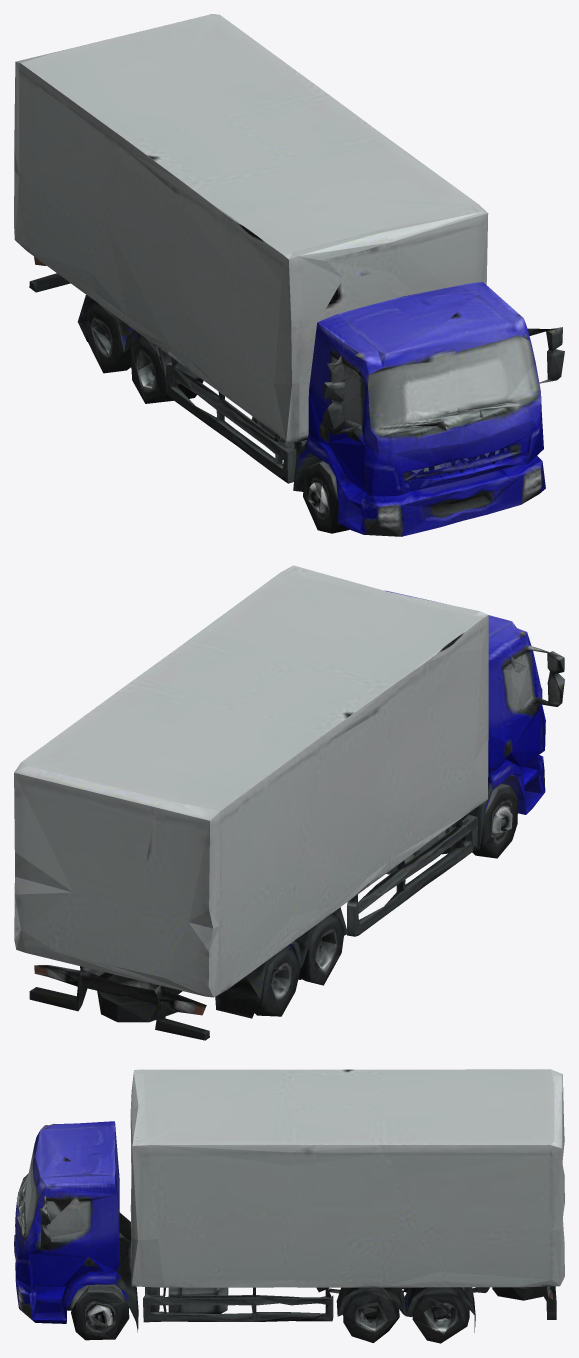
File: lkw.glb
3 renders of one model, top to bottom at view 1: azimuth 30°, elevation 25°; view 2: azimuth 150°, elevation 25°; view 3: azimuth 270°, elevation 25°, orthographic. The views are drawn at different scales.
Parts seen in each view (by area): view 1: koerper; view 2: koerper; view 3: koerper.
Part boxes in pixels (<box>): koerper: <box>14,14,564,536</box>; koerper: <box>14,565,564,1040</box>; koerper: <box>14,1069,564,1343</box>.
Size of the model in its own units: 3.89 by 4.07 by 9.99.
Materials: 1 (1 with a texture image).
